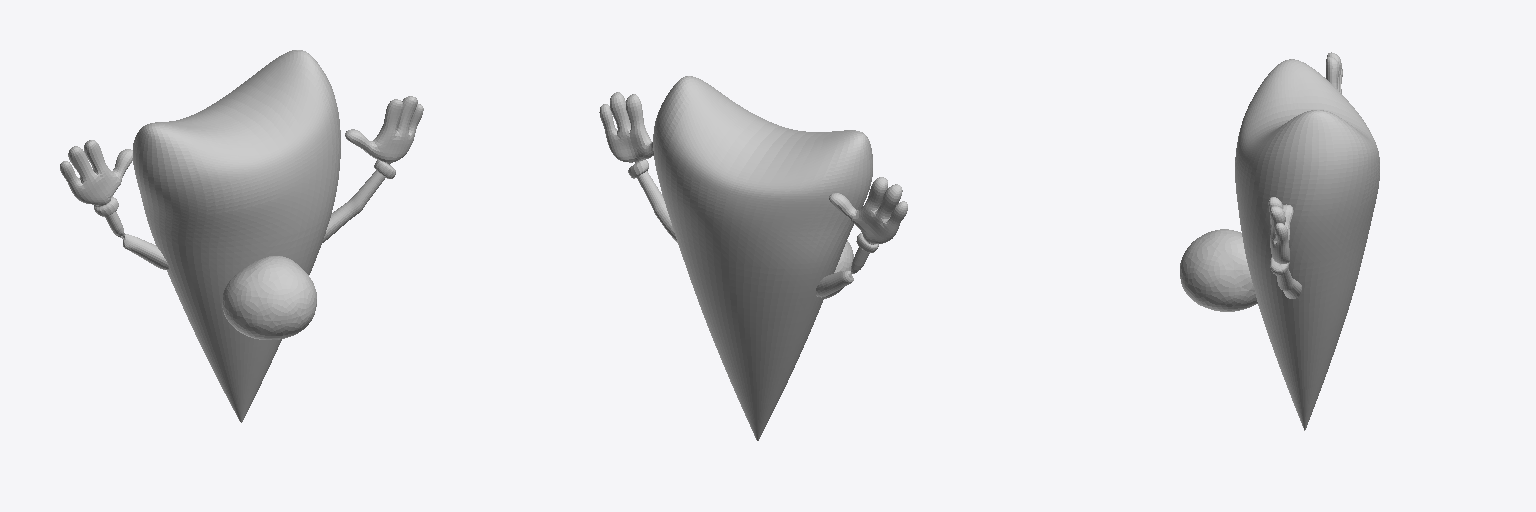
The model's file is java-duke2.obj.
The picture shows the model from 3 angles: view 1: azimuth 30°, elevation 25°; view 2: azimuth 150°, elevation 25°; view 3: azimuth 270°, elevation 25°; orthographic projection.
Visible parts, largest first — view 1: javadude, javadude_hands, javadude_nase; view 2: javadude, javadude_hands; view 3: javadude, javadude_nase, javadude_hands.
Boxes of the visible parts, <box> form: javadude: <box>133,50,340,422</box>; javadude_hands: <box>60,96,423,270</box>; javadude_nase: <box>222,256,316,339</box>; javadude: <box>653,76,872,440</box>; javadude_hands: <box>599,92,907,297</box>; javadude: <box>1235,59,1379,430</box>; javadude_nase: <box>1180,229,1257,311</box>; javadude_hands: <box>1268,52,1342,298</box>.
Size of the model in its own units: 4.07 by 4.09 by 2.11.